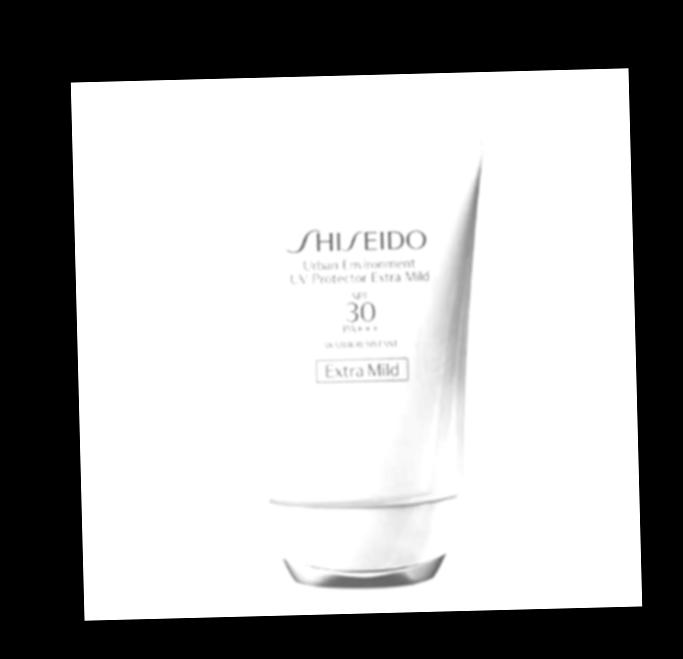cosmetic: (226, 133, 497, 596)
